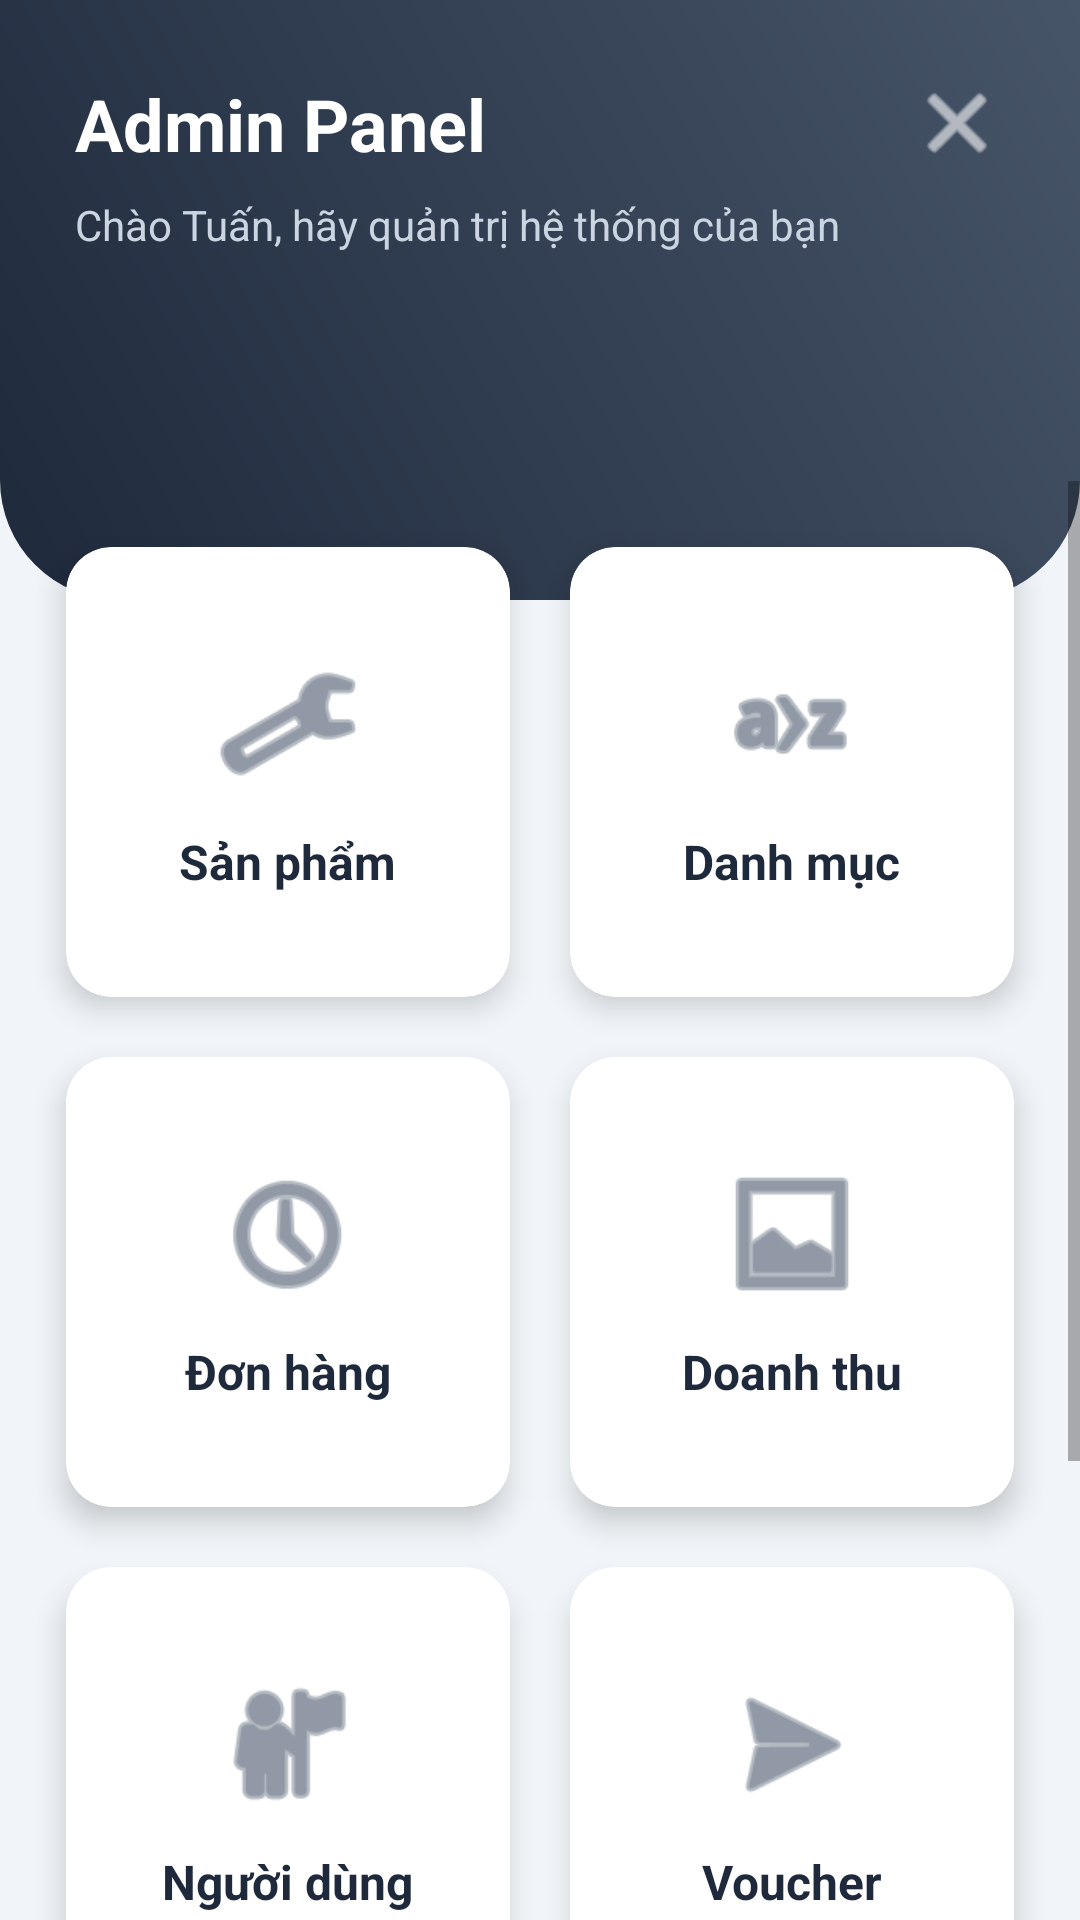

Icon bounding boxes for this 1080x1920 phone screenshot, format (x1, y1, x2, y2):
close clear cancel: (927, 93, 987, 153)
gallery: (736, 1177, 848, 1291)
manage: (220, 672, 356, 776)
myplaces: (233, 1688, 346, 1800)
recent history: (233, 1181, 342, 1289)
send: (745, 1697, 841, 1792)
sort alphabetically: (734, 694, 847, 754)
